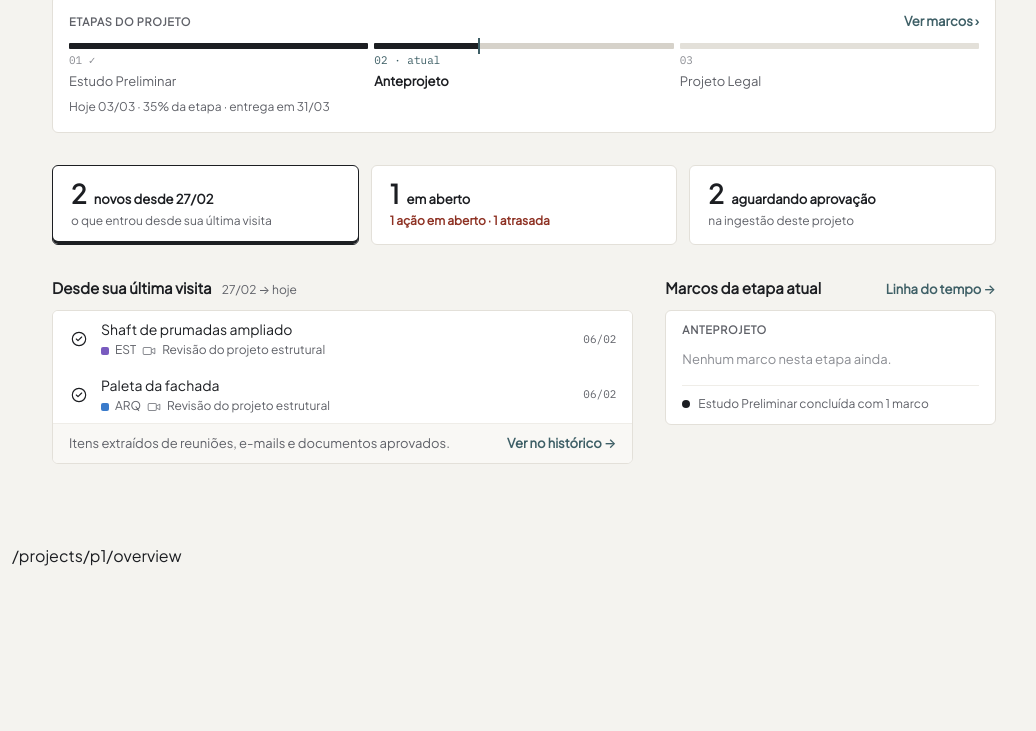
Test case: Phase 3g · mobile › Visão geral › "aguardando aprovação" opens the approvals list
Click the tab "2 aguardando aprovação na ingestão deste projeto" at (843, 205), box [689,165,996,244]
(page scrolled)
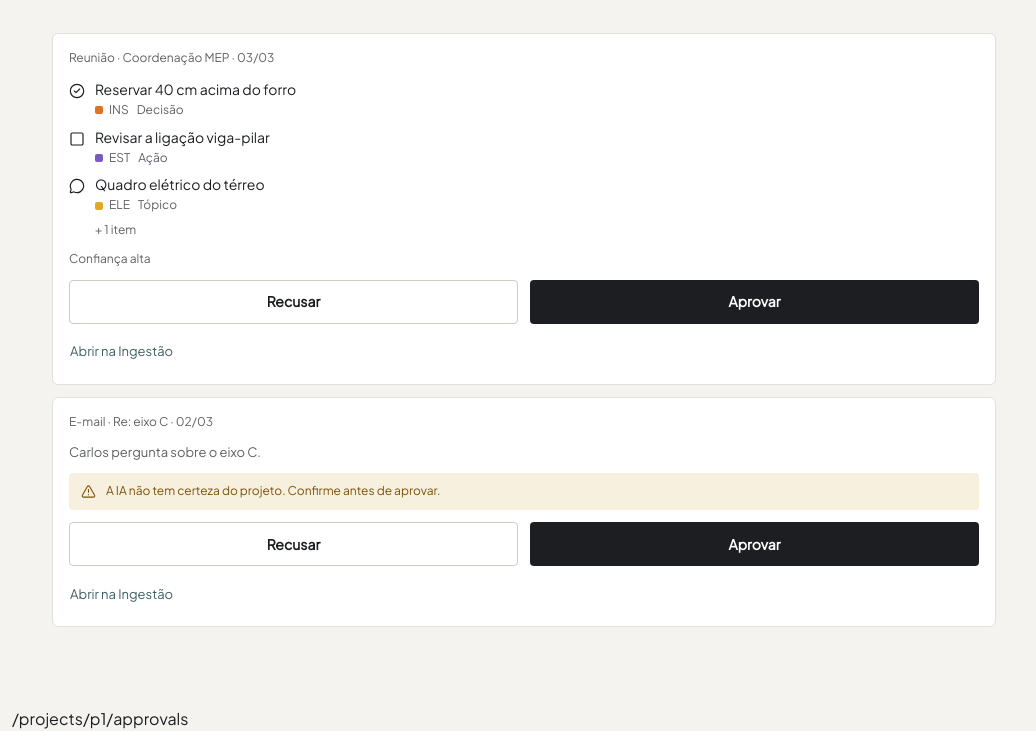
Expected: the text with test id "where" reads "/projects/p1/approvals", [12,708,188,729]
